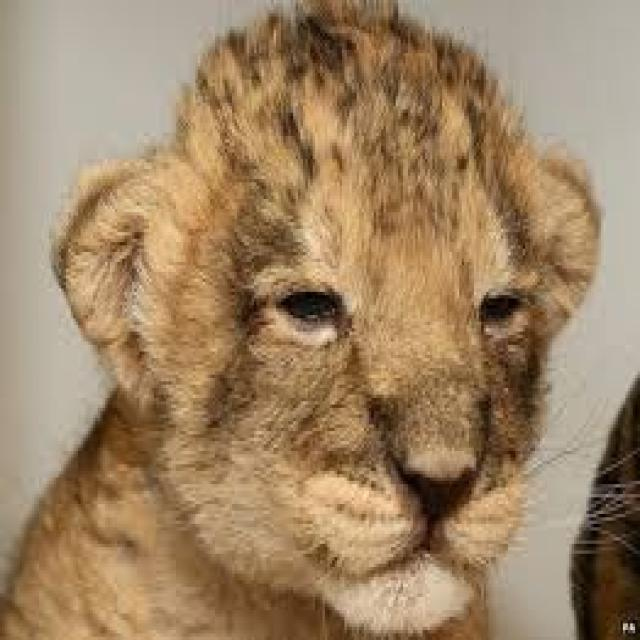Lion: (5, 11, 600, 637)
